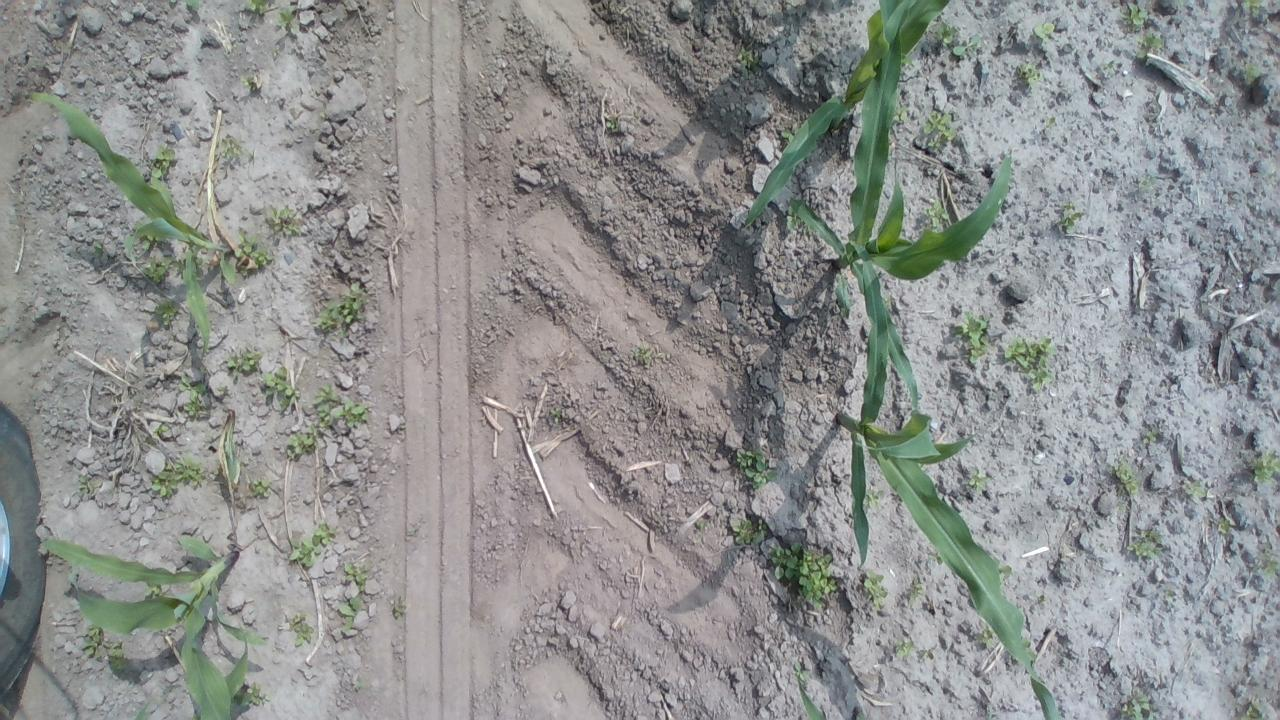Maize: (828, 306, 1074, 716), (20, 86, 270, 350), (771, 150, 1019, 413), (741, 0, 958, 232), (40, 523, 266, 718)
Weeds: (770, 545, 838, 606), (1004, 334, 1056, 391), (947, 306, 994, 367), (316, 288, 366, 336), (152, 456, 206, 500), (288, 524, 334, 570), (732, 443, 774, 493), (920, 108, 960, 154), (1114, 687, 1162, 720), (218, 132, 255, 174), (260, 366, 298, 406), (1128, 523, 1166, 563), (936, 25, 979, 60), (731, 511, 770, 549), (263, 204, 305, 239), (286, 424, 322, 463), (178, 374, 208, 420), (312, 386, 342, 432), (147, 141, 181, 180), (335, 590, 363, 636), (1108, 456, 1140, 496), (1254, 443, 1280, 487), (104, 640, 134, 676), (142, 256, 177, 286), (79, 624, 108, 660), (236, 682, 272, 710), (228, 346, 264, 374), (238, 238, 272, 266), (858, 571, 885, 606), (288, 613, 315, 647), (1252, 542, 1278, 576), (1238, 56, 1264, 90), (342, 401, 372, 430), (1014, 57, 1044, 86), (152, 301, 184, 328), (633, 338, 665, 364), (240, 65, 266, 95), (782, 200, 806, 232), (1119, 5, 1151, 28), (78, 470, 104, 498), (1054, 202, 1080, 230), (926, 200, 951, 229), (1031, 20, 1063, 42), (1134, 34, 1166, 56), (599, 105, 625, 132), (1235, 2, 1271, 21), (972, 620, 998, 646), (1184, 478, 1211, 503), (346, 670, 374, 694), (1096, 55, 1122, 80), (1240, 695, 1266, 720), (344, 557, 366, 586), (246, 476, 272, 500), (906, 576, 926, 607), (894, 634, 914, 663), (1140, 421, 1162, 447), (242, 0, 280, 15), (146, 422, 174, 442), (736, 42, 756, 70), (793, 660, 810, 692), (140, 232, 165, 253), (390, 594, 410, 620), (962, 467, 984, 490), (864, 487, 888, 508), (142, 581, 166, 602), (780, 128, 806, 147), (280, 9, 302, 31), (1140, 165, 1158, 190), (1038, 114, 1062, 130), (891, 95, 906, 120), (1162, 588, 1178, 611), (1030, 591, 1050, 608), (178, 0, 206, 11), (1218, 522, 1234, 540), (982, 703, 998, 720), (999, 562, 1016, 578), (92, 241, 105, 260), (550, 407, 564, 421), (694, 517, 704, 534)
